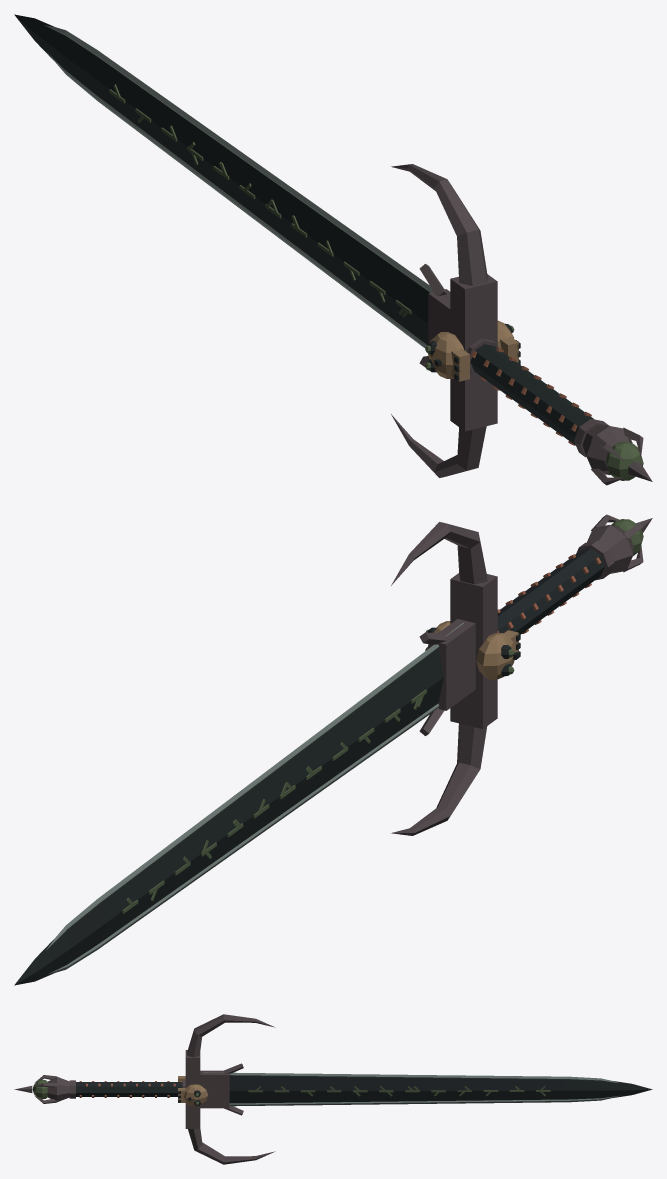
The model's file is sabie_blestemata.glb.
3 views of the same model, one above another, from view 1: azimuth 30°, elevation 25°; view 2: azimuth 150°, elevation 25°; view 3: azimuth 270°, elevation 25° (orthographic). The views are drawn at different scales.
Visible parts, largest first — view 1: Sabie, Rune; view 2: Sabie, Rune; view 3: Sabie, Rune.
Boxes of the visible parts, left/top/right/bottom form: Sabie: left=14, top=14, right=652, bottom=485; Rune: left=109, top=84, right=643, bottom=480; Sabie: left=14, top=514, right=652, bottom=985; Rune: left=122, top=519, right=643, bottom=913; Sabie: left=14, top=1014, right=652, bottom=1164; Rune: left=32, top=1079, right=550, bottom=1105.
Size of the model in its own units: 0.0963 by 0.3135 by 1.22.
